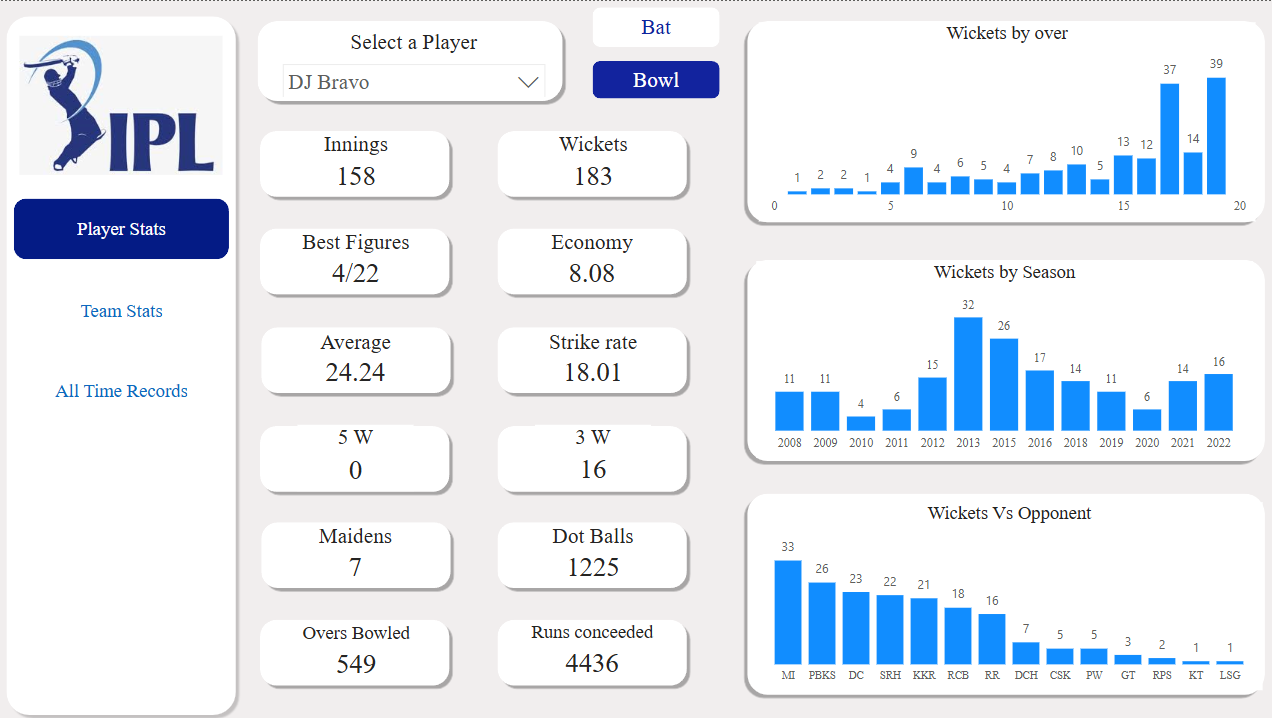

This screenshot's page, from the dashboard's own definition file:
{"tool":"powerbi","page":{"name":"Bowling","canvas":[1280,720],"ordinal":1},"visuals":[{"type":"shape","box":[0,8.6,242.1,711.7],"z":0},{"type":"actionButton","box":[13.5,359.5,215.2,59.9],"z":1000},{"type":"actionButton","box":[13.5,198.1,215.2,61.1],"z":2000},{"type":"image","box":[13.8,30,215,148.8],"z":3000},{"type":"shape","box":[252.5,15,315,90],"z":4000},{"type":"actionButton","title":"Bowl","box":[593.1,59.9,127.2,37.9],"z":5000},{"type":"actionButton","box":[593.1,6.1,127.2,40.4],"z":6000},{"type":"shape","box":[742.3,14.7,528.3,211.6],"z":7000},{"type":"shape","box":[742.3,253.1,528.3,211.6],"z":8000},{"type":"shape","box":[742.3,487.9,528.3,211.6],"z":9000},{"type":"clusteredColumnChart","title":" Wickets Vs Opponent","fields":{"Y":["Sum(BowlerWicketsByOpponent.Wickets)"],"Category":["BowlerWicketsByOpponent.ShortOpponent"]},"box":[755.7,501.4,506.3,188.3],"z":10000},{"type":"slicer","title":"Select a Player","fields":{"Values":["BowlerStats.bowler"]},"box":[272.7,28.1,282.5,67.3],"z":11000},{"type":"clusteredColumnChart","title":"Wickets by over","fields":{"Y":["Sum(BowlerWicketsPerOver.Wickets)"],"Category":["BowlerWicketsPerOver.over"]},"box":[758.2,20.8,496.5,199.3],"z":12000},{"type":"clusteredColumnChart","title":"Wickets by Season","fields":{"Y":["Sum(BowlerWicketsBySeason.Wickets)"],"Category":["BowlerWicketsBySeason.Season"]},"box":[755.7,260.5,496.5,196.9],"z":13000},{"type":"shape","box":[255.6,124.7,199.3,75.8],"z":14000},{"type":"shape","box":[492.8,124.7,199.3,75.8],"z":15000},{"type":"card","title":"Innings","fields":{"Values":["Sum(BowlerStats.MatchesPlayed)"]},"box":[286.1,130.8,139.4,62.4],"z":16000},{"type":"shape","box":[255.6,222.6,199.3,75.8],"z":17000},{"type":"shape","box":[492,222.8,199.3,75.8],"z":18000},{"type":"shape","box":[255.8,321.6,199.3,75.8],"z":19000},{"type":"shape","box":[493,321.6,199.3,75.8],"z":20000},{"type":"shape","box":[255,419.6,199.3,75.8],"z":21000},{"type":"shape","box":[492.3,419.6,199.3,75.8],"z":22000},{"type":"shape","box":[255.8,516.3,199.3,75.8],"z":23000},{"type":"shape","box":[493,516.3,199.3,75.8],"z":24000},{"type":"shape","box":[255,614.3,199.3,75.8],"z":25000},{"type":"shape","box":[492.3,614.3,199.3,75.8],"z":26000},{"type":"card","title":"Wickets","fields":{"Values":["Sum(WicketsByBowler.Wickets)"]},"box":[514.8,130.8,156.5,62.4],"z":27000},{"type":"card","title":"Best Figures","fields":{"Values":["Min(BestBowlingFiguresTable.Best Figures)"]},"box":[281.3,228.7,149.2,62.4],"z":28000},{"type":"card","title":"Average","fields":{"Values":["Sum(BowlerStats.Average)"]},"box":[297.1,328.9,116.2,61.1],"z":29000},{"type":"card","title":"Strike rate","fields":{"Values":["Sum(BowlerStats.BowlingStrikeRate)"]},"box":[534.4,328.9,116.2,61.1],"z":30000},{"type":"card","title":"5 W","fields":{"Values":["Sum(BowlerStats.FiveFers)"]},"box":[297.1,424.3,116.2,66],"z":31000},{"type":"card","title":"3 W","fields":{"Values":["Sum(BowlerStats.ThreeFers)"]},"box":[535.6,424.3,116.2,63.6],"z":32000},{"type":"card","title":"Maidens","fields":{"Values":["Sum(BowlerStats.Maidens)"]},"box":[289.8,522.1,130.8,62.4],"z":33000},{"type":"card","title":"Dot Balls","fields":{"Values":["Sum(BowlerStats.DotBalls)"]},"box":[534.4,522.1,116.2,62.4],"z":34000},{"type":"card","title":"Overs Bowled","fields":{"Values":["Sum(BowlerStats.OversDecimal)"]},"box":[295.9,621.2,119.8,62.4],"z":35000},{"type":"card","title":"Runs conceeded","fields":{"Values":["Sum(BowlerStats.RunsConceded)"]},"box":[520.9,620,141.8,62.4],"z":36000},{"type":"card","title":"Economy","fields":{"Values":["Sum(BowlerStats.EconomyRate)"]},"box":[513.6,228.7,156.5,62.4],"z":37000},{"type":"actionButton","box":[13.5,278.8,215.2,62.4],"z":38000}]}

Visuals, with their boxes in screenshot pixels (x1, y1, x2, y2), scaled from the page's 1280x720 canvas onto the 1272x718 screenshot:
shape: bbox=(0, 9, 241, 717)
actionButton: bbox=(13, 359, 227, 418)
actionButton: bbox=(13, 198, 227, 258)
image: bbox=(14, 30, 227, 178)
shape: bbox=(251, 15, 564, 105)
"Bowl" actionButton: bbox=(589, 60, 716, 98)
actionButton: bbox=(589, 6, 716, 46)
shape: bbox=(738, 15, 1263, 226)
shape: bbox=(738, 252, 1263, 463)
shape: bbox=(738, 487, 1263, 698)
" Wickets Vs Opponent" clusteredColumnChart: bbox=(751, 500, 1254, 688)
"Select a Player" slicer: bbox=(271, 28, 552, 95)
"Wickets by over" clusteredColumnChart: bbox=(753, 21, 1247, 219)
"Wickets by Season" clusteredColumnChart: bbox=(751, 260, 1244, 456)
shape: bbox=(254, 124, 452, 200)
shape: bbox=(490, 124, 688, 200)
"Innings" card: bbox=(284, 130, 423, 193)
shape: bbox=(254, 222, 452, 298)
shape: bbox=(489, 222, 687, 298)
shape: bbox=(254, 321, 452, 396)
shape: bbox=(490, 321, 688, 396)
shape: bbox=(253, 418, 451, 494)
shape: bbox=(489, 418, 687, 494)
shape: bbox=(254, 515, 452, 590)
shape: bbox=(490, 515, 688, 590)
shape: bbox=(253, 613, 451, 688)
shape: bbox=(489, 613, 687, 688)
"Wickets" card: bbox=(512, 130, 667, 193)
"Best Figures" card: bbox=(280, 228, 428, 290)
"Average" card: bbox=(295, 328, 411, 389)
"Strike rate" card: bbox=(531, 328, 647, 389)
"5 W" card: bbox=(295, 423, 411, 489)
"3 W" card: bbox=(532, 423, 648, 487)
"Maidens" card: bbox=(288, 521, 418, 583)
"Dot Balls" card: bbox=(531, 521, 647, 583)
"Overs Bowled" card: bbox=(294, 619, 413, 682)
"Runs conceeded" card: bbox=(518, 618, 659, 681)
"Economy" card: bbox=(510, 228, 666, 290)
actionButton: bbox=(13, 278, 227, 340)
